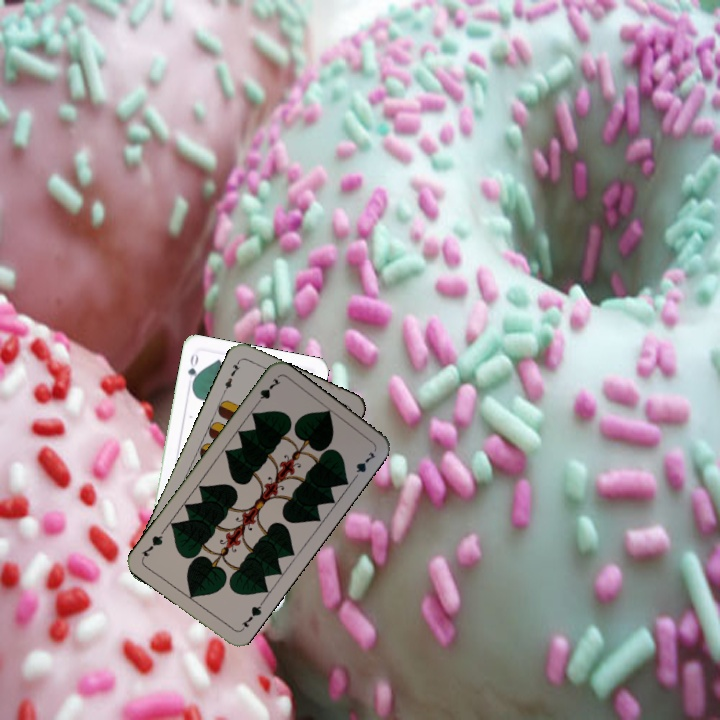E7: (219, 357, 243, 395)
G7: (251, 373, 283, 409), (237, 598, 266, 634)
GO: (184, 349, 201, 390)
